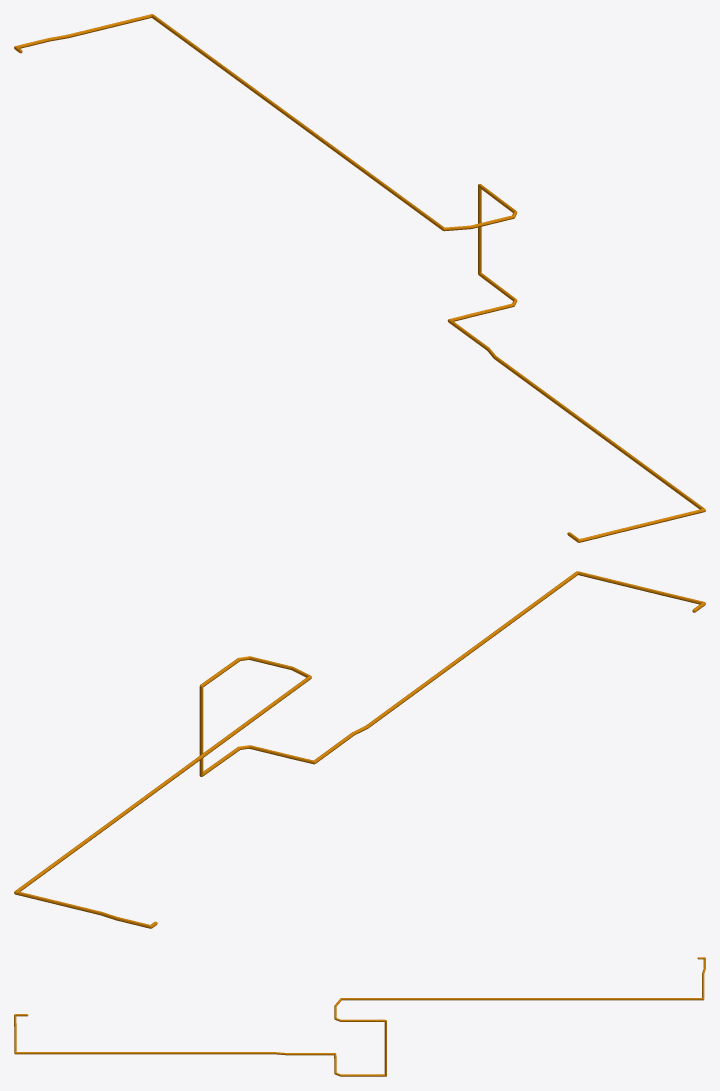
3 views of the same model, one above another, from view 1: azimuth 30°, elevation 25°; view 2: azimuth 150°, elevation 25°; view 3: azimuth 270°, elevation 25° (orthographic). The views are drawn at different scales.
Size of the model in its own units: 1248 by 520 by 5736.
